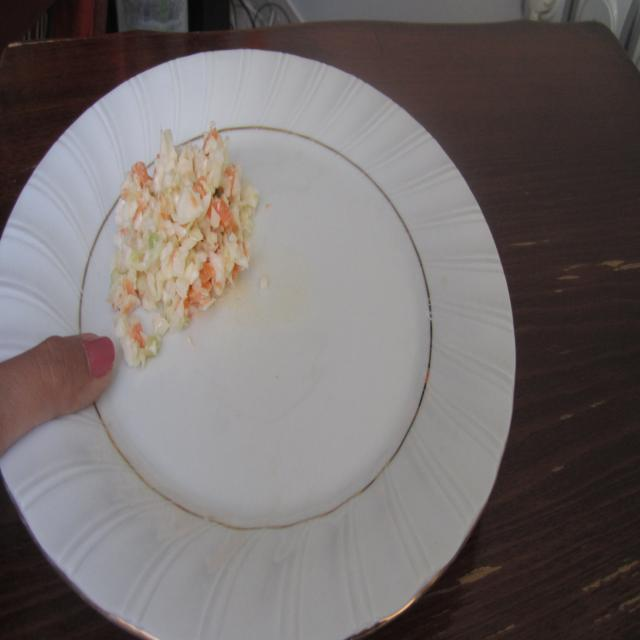vegatable salad: (120, 112, 270, 371)
